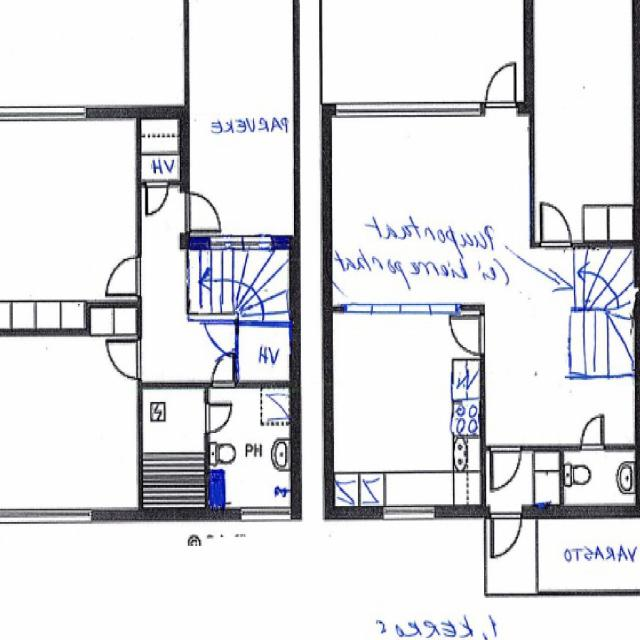door: (485, 64, 516, 115), (491, 506, 522, 557), (491, 443, 521, 490), (180, 194, 218, 231), (451, 315, 486, 354), (109, 258, 142, 296), (109, 341, 142, 378), (210, 320, 240, 355), (581, 414, 604, 450), (205, 403, 232, 432), (147, 178, 168, 214), (212, 354, 233, 388)
